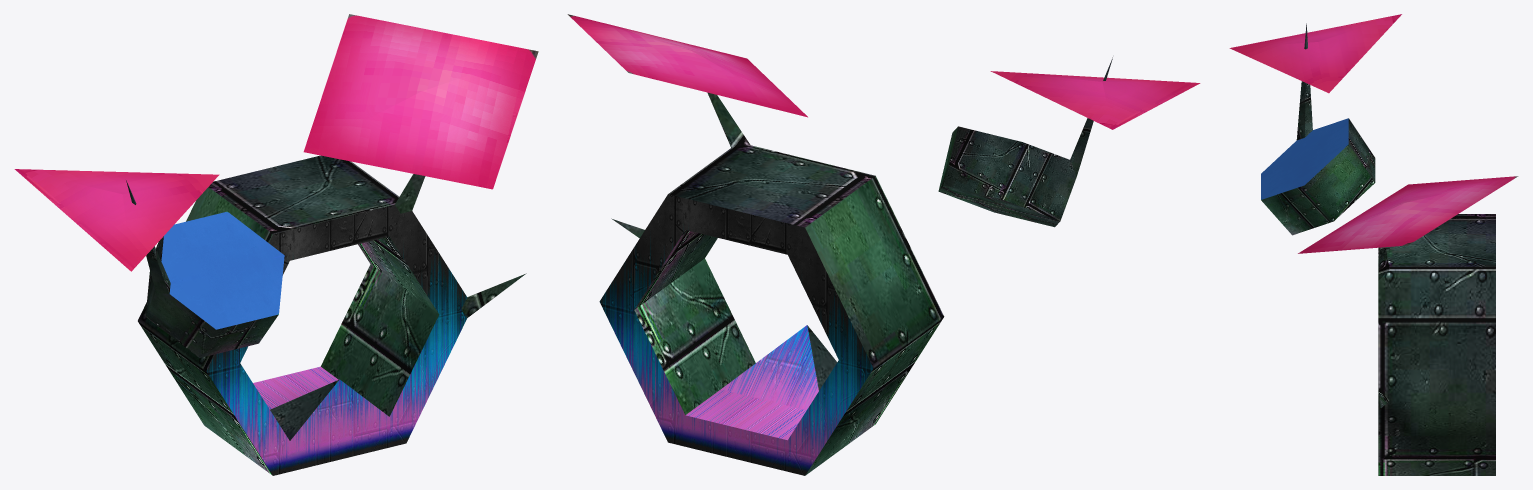
Rendered from instr_bateria.fbx.
3 views of the same model, side by side, from view 1: azimuth 30°, elevation 25°; view 2: azimuth 150°, elevation 25°; view 3: azimuth 270°, elevation 25° (orthographic). The views are drawn at different scales.
Parts seen in each view (by area): view 1: instr_bateria; view 2: instr_bateria; view 3: instr_bateria.
Boxes of the visible parts, x1,y1,x2,y2 form: instr_bateria: [14, 14, 538, 475]; instr_bateria: [567, 14, 1200, 475]; instr_bateria: [1229, 14, 1518, 475].
Bounding box in the file's own units: 151 × 102 × 83.88.
1 material, 1 textured.
